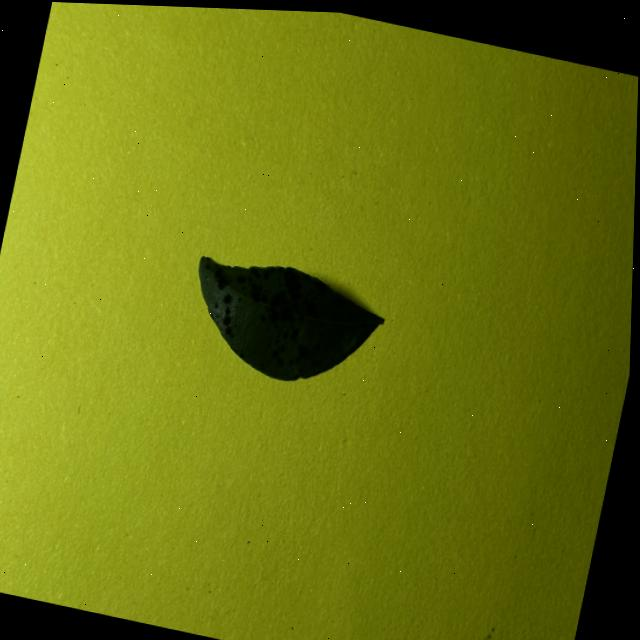sooty_mold: (199, 256, 383, 379)
